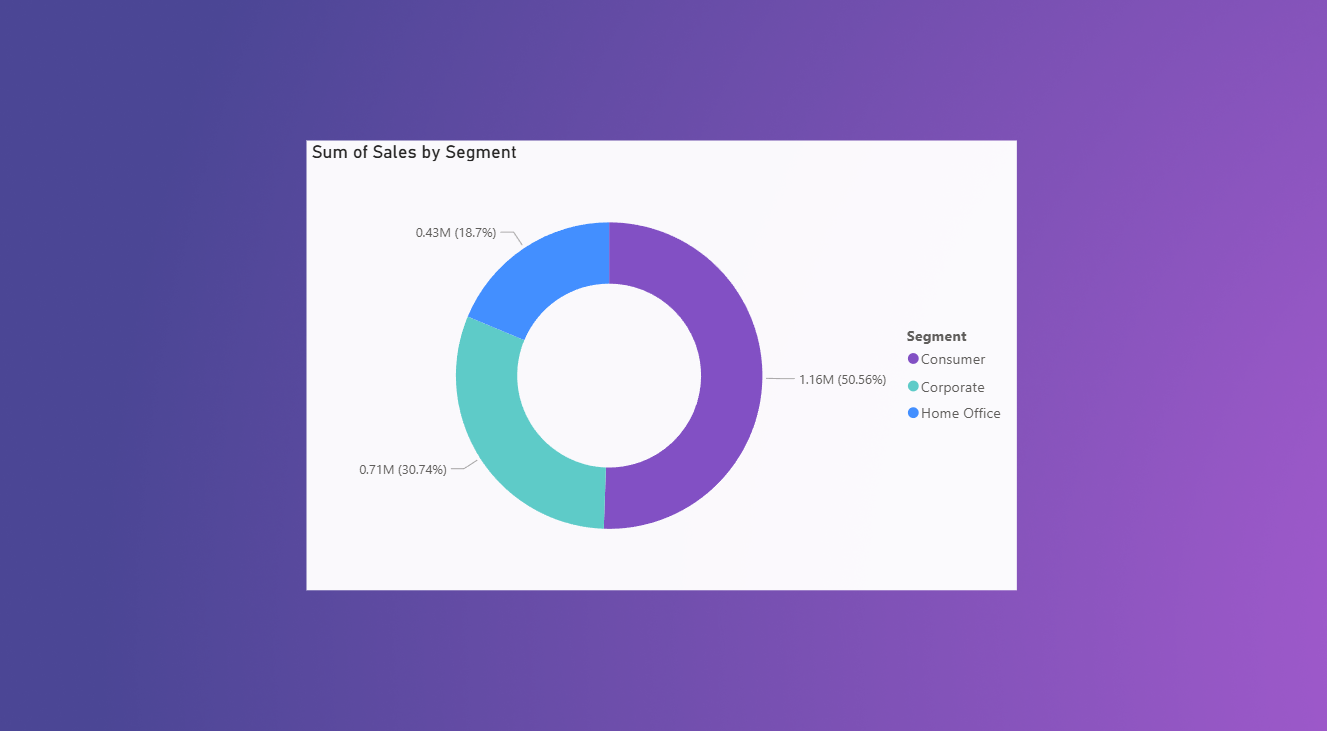

Layout of this report page (visuals, bound fields, positions):
{"tool":"powerbi","page":{"name":"Page 5","canvas":[1280,720],"ordinal":4},"visuals":[{"type":"donutChart","fields":{"Category":["Data.Segment"],"Y":["Sum(Data.Sales)"]},"box":[10,0,879.5,578.7],"z":0}]}

Visuals, with their boxes in screenshot pixels (x1, y1, x2, y2), scaled from the page's 1280x720 canvas onto the 1327x731 screenshot:
donutChart - Data.Segment x Sum(Data.Sales): {"left": 10, "top": 0, "right": 922, "bottom": 588}
